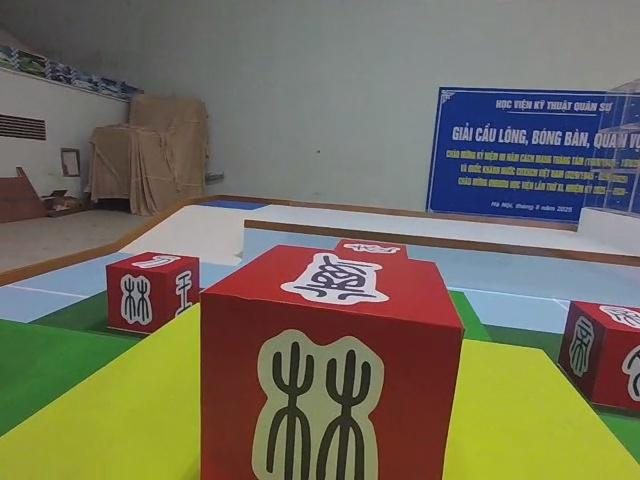R2 Fake: (201, 246, 466, 480), (556, 301, 640, 410), (106, 252, 201, 334)
